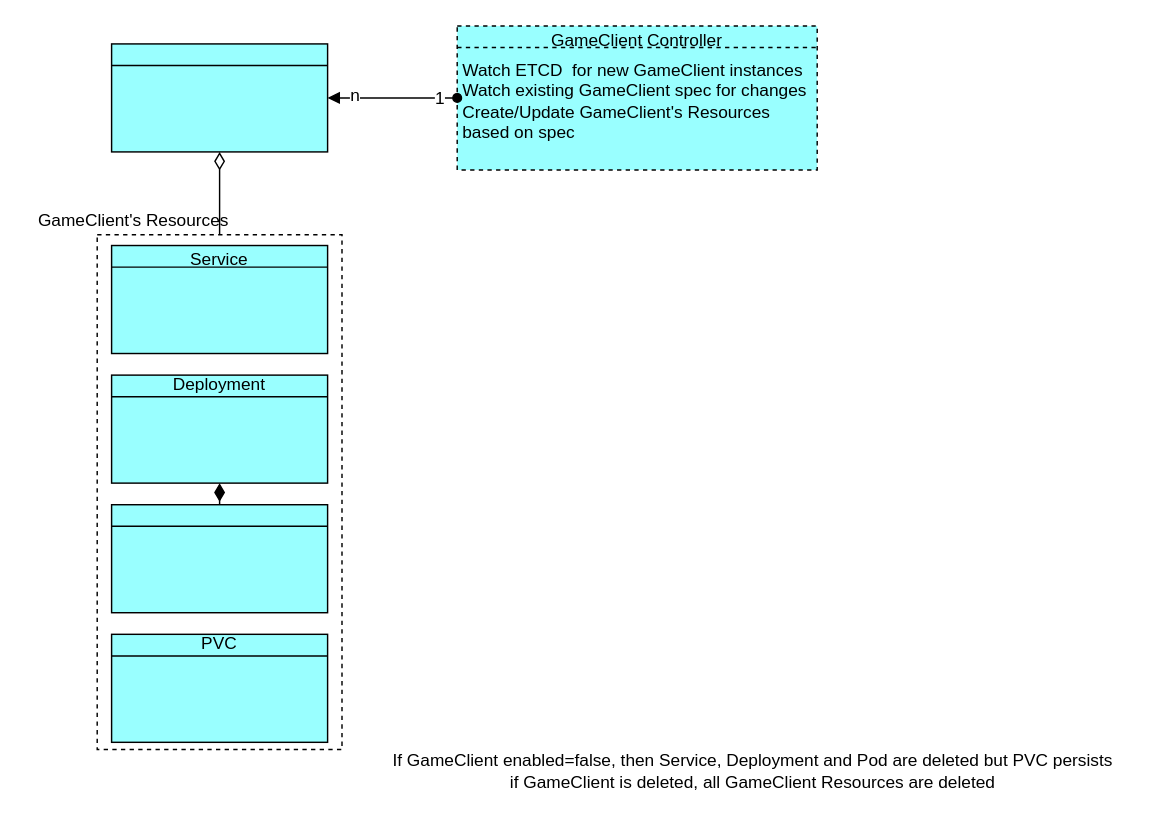
Some shapes in this 1151 by 816 pixel diagram are drawn without their labels. The centre of each missing label's shape, as x and y in pixels:
"GameClient CRD gameClientID: ? enabled: true" belongs at pixel 219 97.
"Pod" belongs at pixel 219 558.
